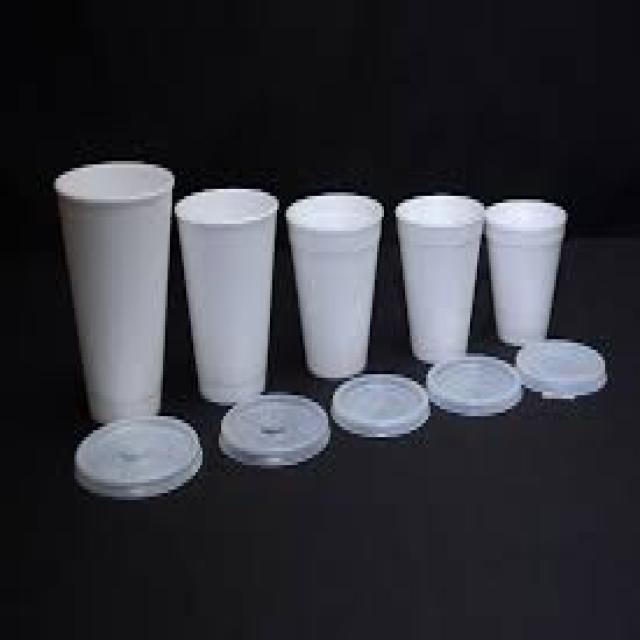styrofoam: (55, 162, 174, 422), (175, 190, 279, 403), (286, 193, 384, 379), (395, 195, 484, 362), (489, 199, 565, 343)
